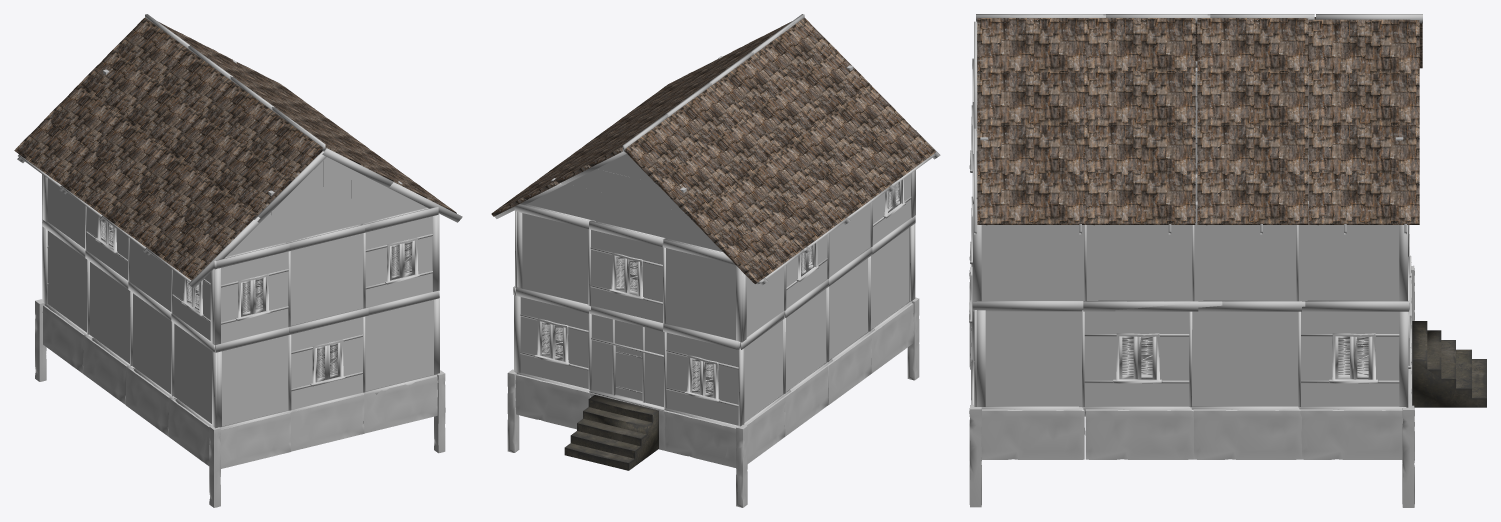
Rendered from Casa_V2_Red.fbx.
3 renders of one model, left to right at view 1: azimuth 30°, elevation 25°; view 2: azimuth 150°, elevation 25°; view 3: azimuth 270°, elevation 25°, orthographic. The views are drawn at different scales.
Visible parts, largest first — view 1: pared_piedra_1_5X3_LOW_600__1__Variant__2_; view 2: pared_piedra_1_5X3_LOW_600__1__Variant__2_, escalera_piedra_low; view 3: pared_piedra_1_5X3_LOW_600__1__Variant__2_, escalera_piedra_low.
Part boxes in pixels (x1,y1,x2,y2): pared_piedra_1_5X3_LOW_600__1__Variant__2_: (14, 14, 462, 507); pared_piedra_1_5X3_LOW_600__1__Variant__2_: (491, 14, 940, 507); escalera_piedra_low: (564, 395, 658, 470); pared_piedra_1_5X3_LOW_600__1__Variant__2_: (969, 14, 1422, 507); escalera_piedra_low: (1412, 321, 1486, 407).
Bounding box in the file's own units: 1086 × 1272 × 1419.
